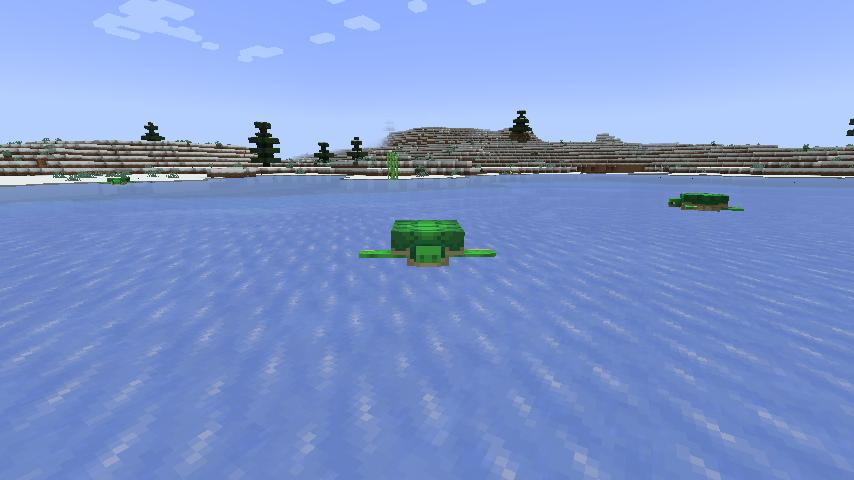turtle: (357, 218, 494, 268), (666, 191, 747, 217), (105, 174, 132, 187)
